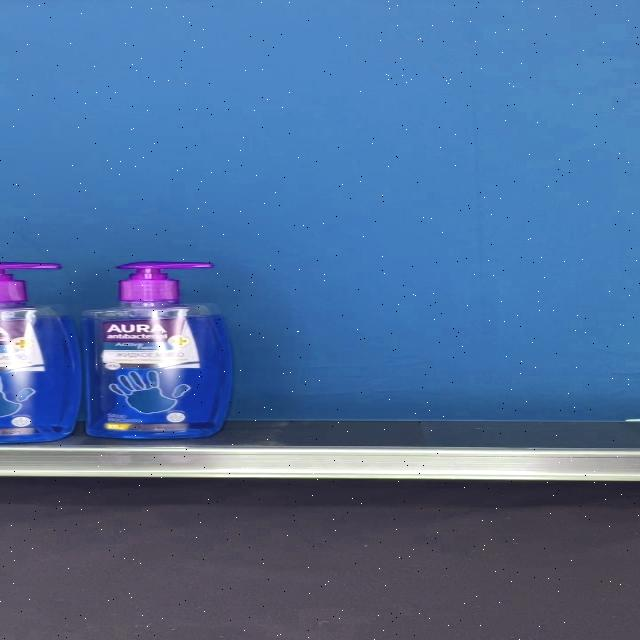Bottle: (83, 262, 233, 439)
Cap: (118, 262, 212, 302)
